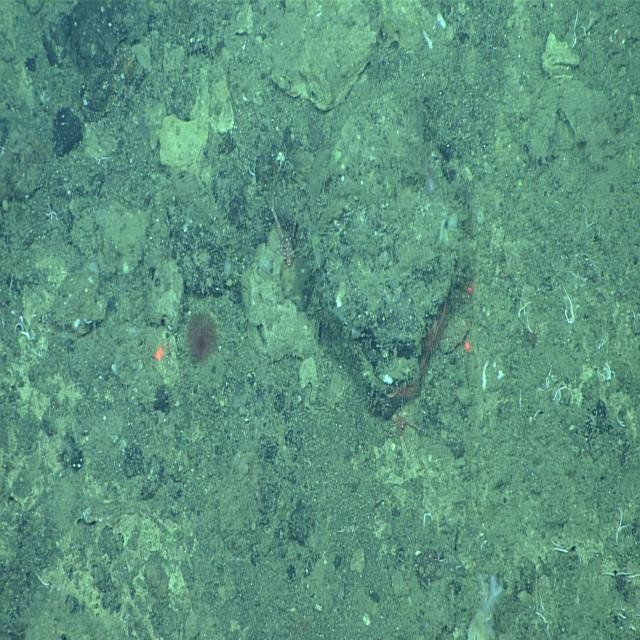Brittle Star: (41, 194, 62, 230)
